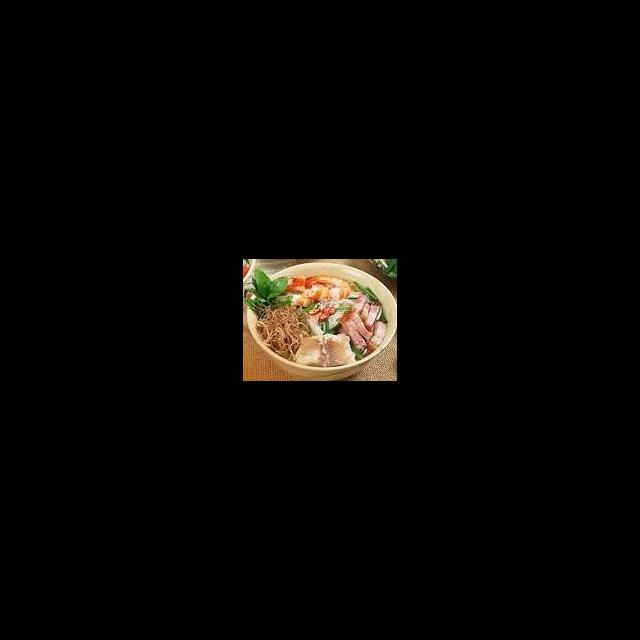ca: (290, 331, 358, 369)
thit heo quay: (336, 307, 376, 353), (364, 318, 390, 354), (363, 300, 385, 329), (353, 292, 370, 316), (358, 298, 374, 323)
tom: (279, 273, 331, 309), (303, 273, 353, 304)
